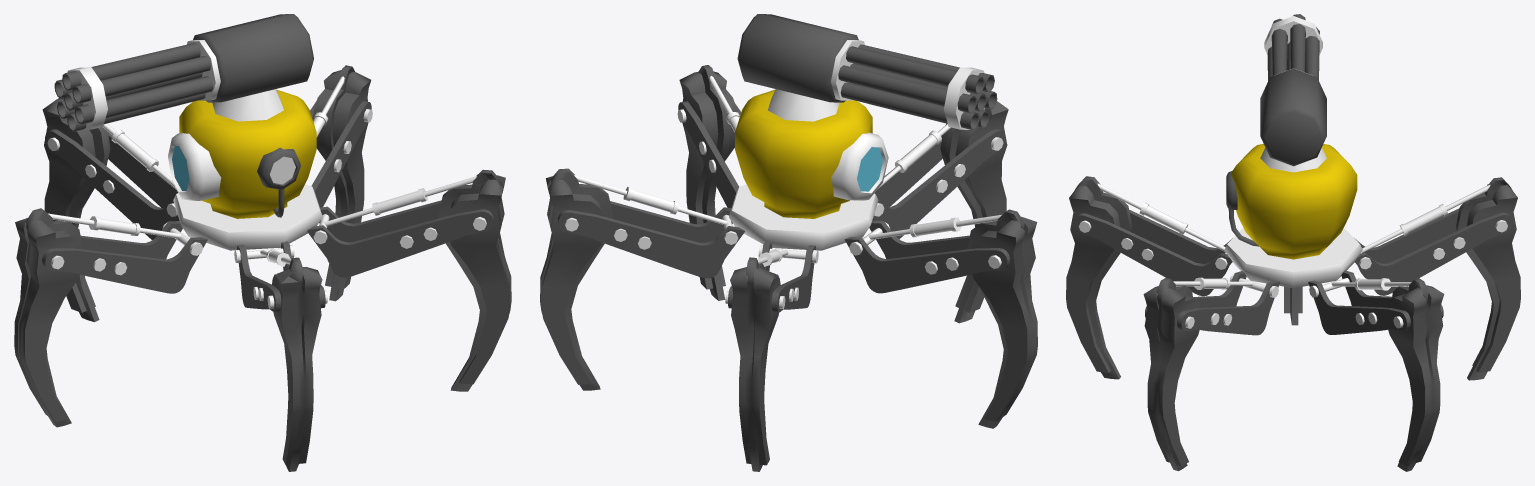
File: Op2_Enemy.fbx
The picture shows the model from 3 angles, left to right: view 1: azimuth 30°, elevation 25°; view 2: azimuth 150°, elevation 25°; view 3: azimuth 270°, elevation 25°; orthographic projection. The views are drawn at different scales.
Parts seen in each view (by area): view 1: OP_2_Enemy; view 2: OP_2_Enemy; view 3: OP_2_Enemy.
Part boxes in pixels (x1,y1,x2,y2): OP_2_Enemy: (14, 14, 511, 471); OP_2_Enemy: (540, 14, 1037, 471); OP_2_Enemy: (1066, 14, 1520, 471).
Bounding box in the file's own units: 357 × 288 × 374.
